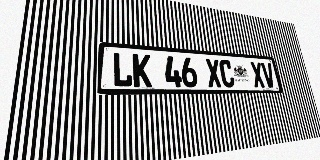4: (164, 56, 182, 87)
6: (180, 57, 198, 87)
C: (218, 59, 235, 87)
K: (132, 54, 152, 87)
L: (112, 52, 133, 87)
V: (261, 62, 276, 88)
X: (205, 59, 222, 87), (250, 62, 266, 88)
